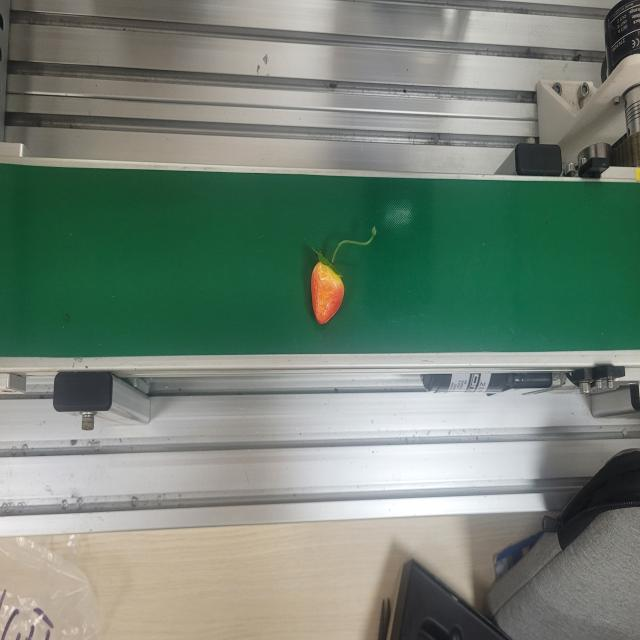Small Unripe Strawberry: (306, 222, 378, 326)
